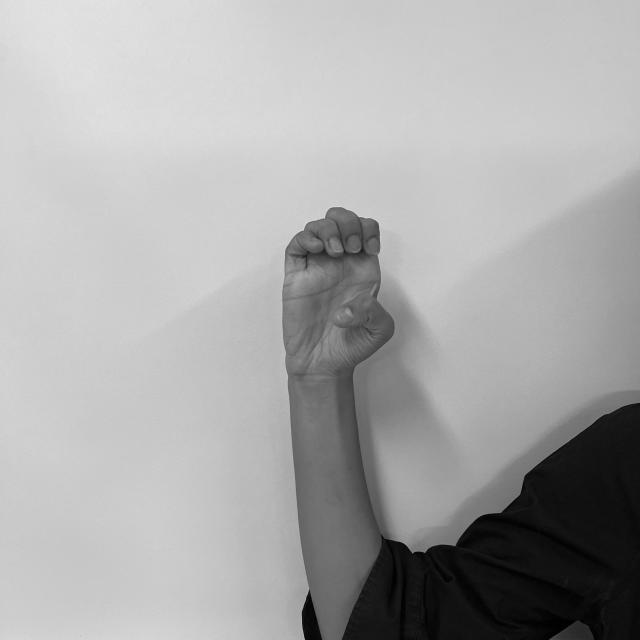Letra E: (277, 202, 400, 380)
